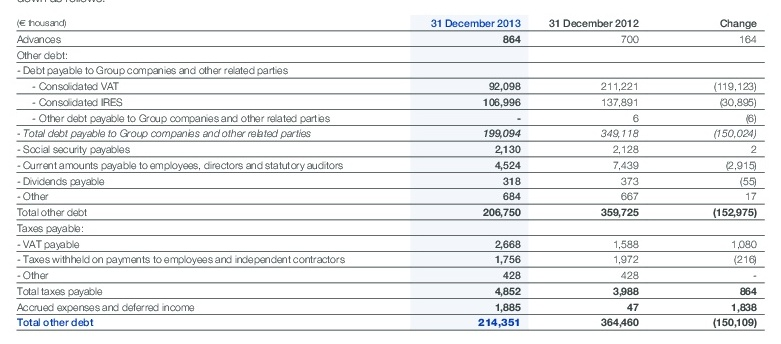table: (0, 0, 781, 344)
